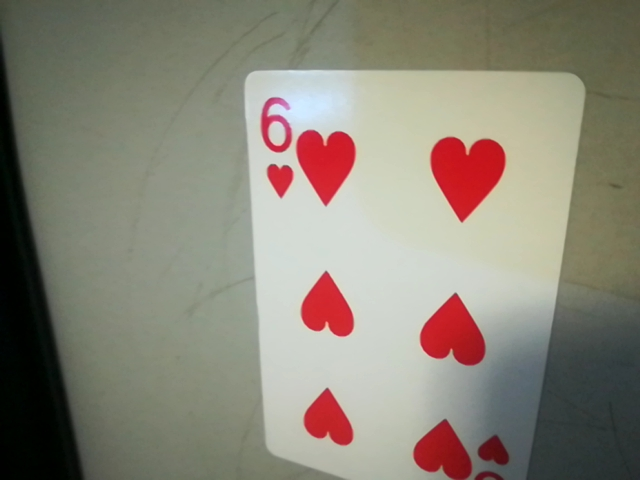hx 6: (249, 89, 306, 207)
